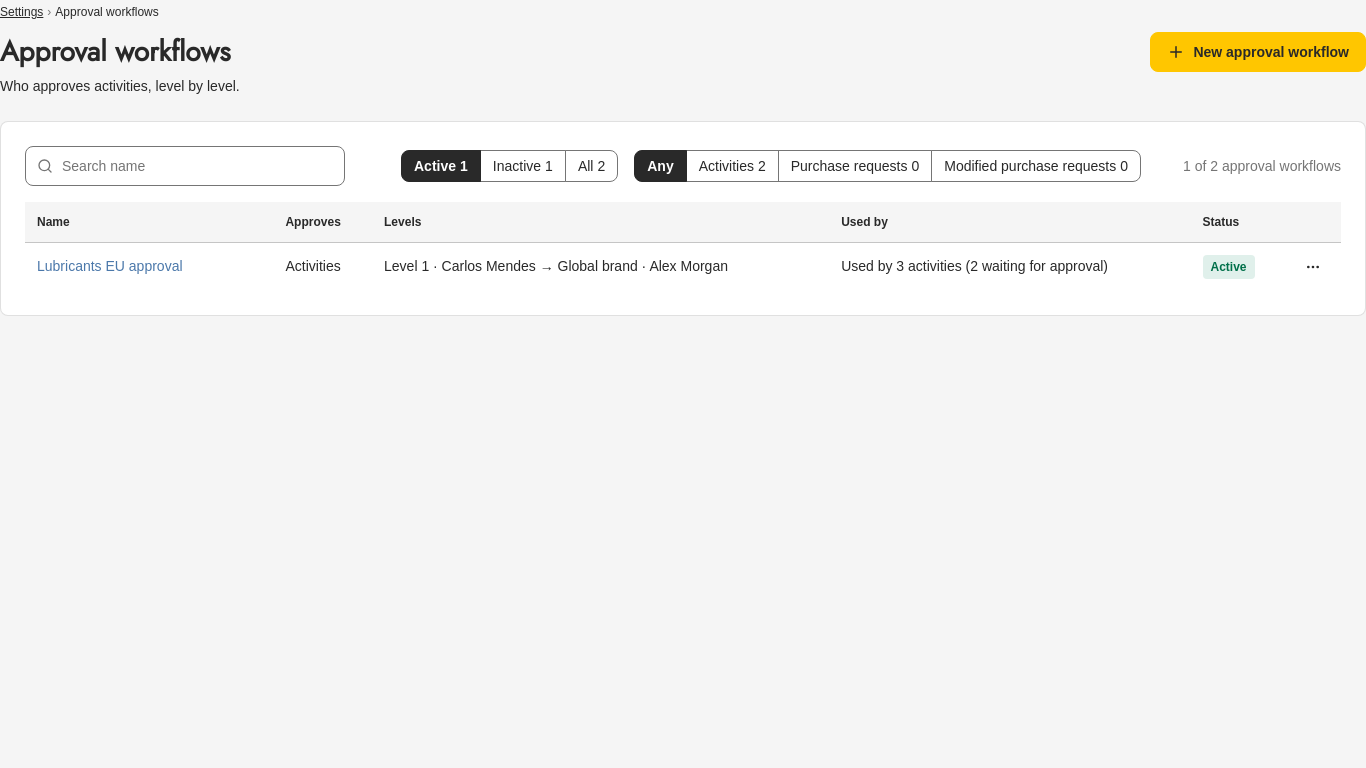
Test: ApprovalWorkflowsPage set inactive, reactivate and delete (feature 008, US4) › explains that a workflow in use is set inactive instead of deleted (FR-008)
Expected: the row "Lubricants EU approval" is shown, [25, 242, 1341, 290]
Click the button named "Actions for Lubricants EU approval": (1313, 266) [1297, 250, 1329, 282]
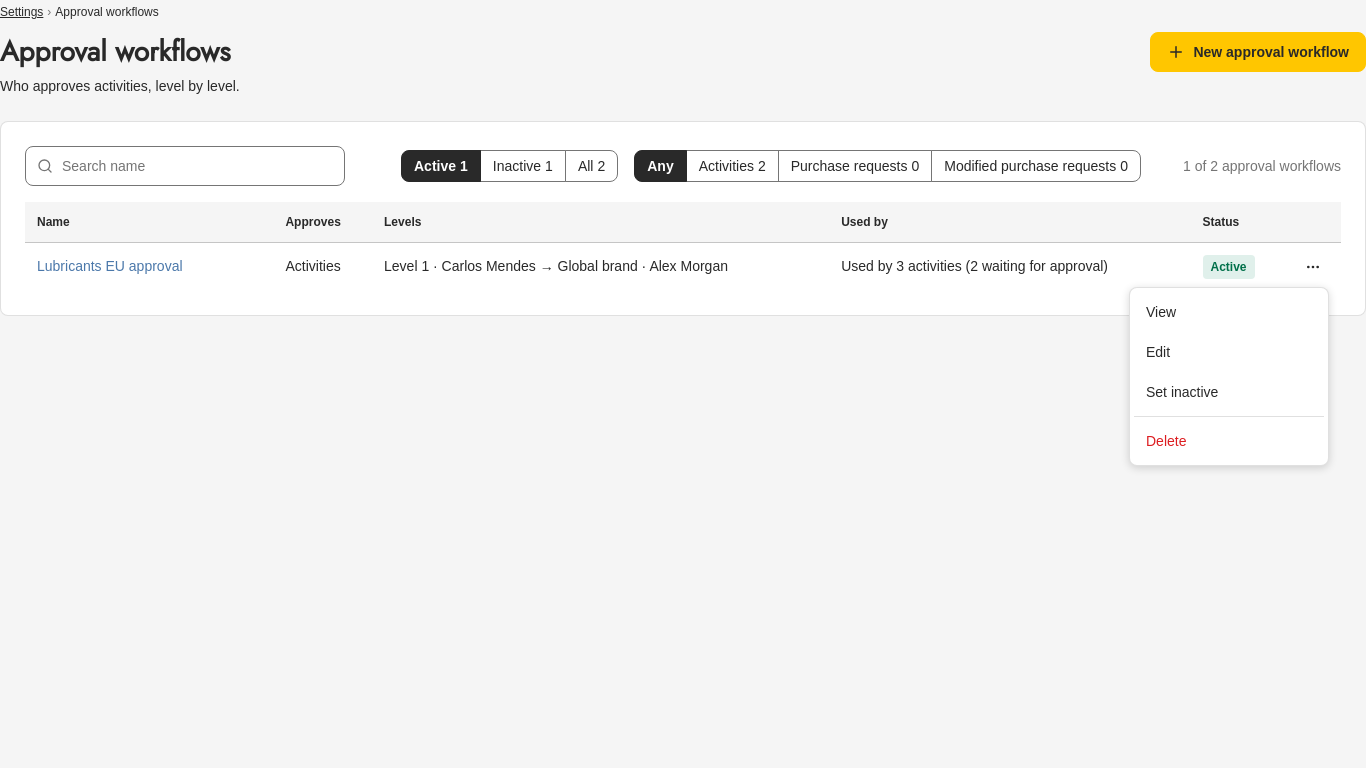
Click the menu item "Delete": (1166, 441) [1146, 433, 1186, 449]
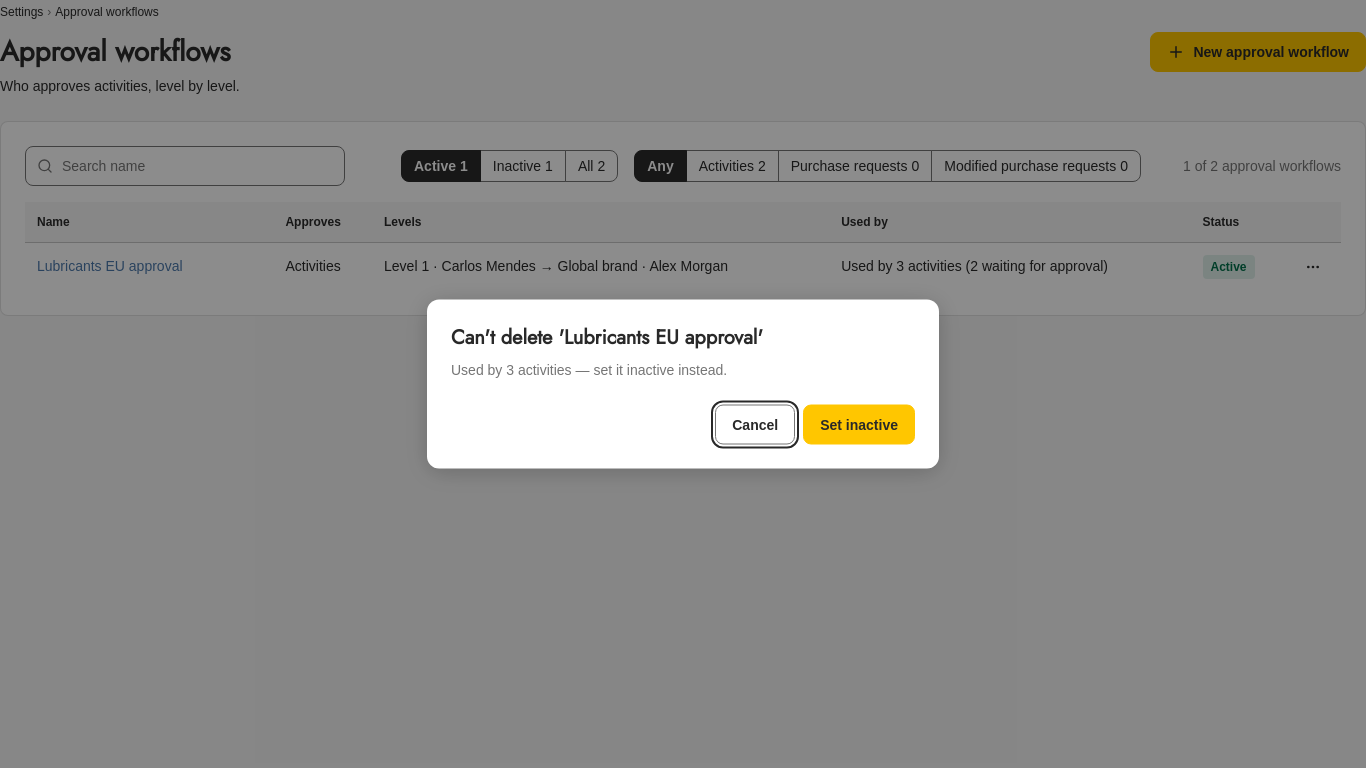
Expected: the button "Set inactive" is shown, [803, 404, 915, 444]
Expected: the dialog "Can't delete 'Lubricants EU approval'" shows "Used by 3 activities — set it inactive instead.", [451, 362, 727, 378]
